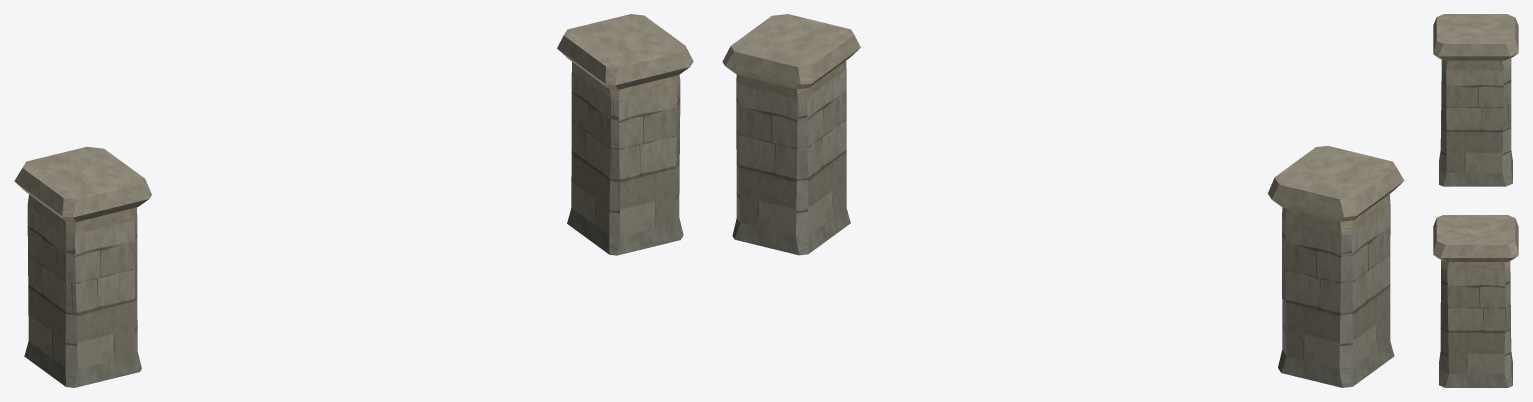
The model's file is quay_threshold.glb.
The picture shows the model from 3 angles, left to right: view 1: azimuth 30°, elevation 25°; view 2: azimuth 150°, elevation 25°; view 3: azimuth 270°, elevation 25°; orthographic projection. The views are drawn at different scales.
Parts seen in each view (by area): view 1: QUAY_THRESHOLD; view 2: QUAY_THRESHOLD; view 3: QUAY_THRESHOLD.
Part boxes in pixels (x1,y1,x2,y2): QUAY_THRESHOLD: [14, 14, 693, 387]; QUAY_THRESHOLD: [722, 14, 1404, 387]; QUAY_THRESHOLD: [1433, 14, 1518, 387].
Size of the model in its own units: 18.4 by 5.26 by 2.84.
1 material, 1 textured.
